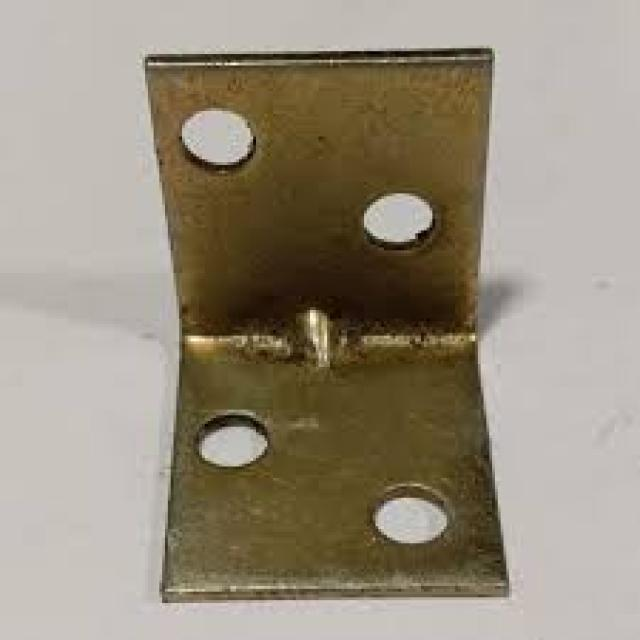holes: (370, 477, 459, 549), (176, 105, 253, 168), (361, 191, 435, 250), (193, 412, 267, 466)
